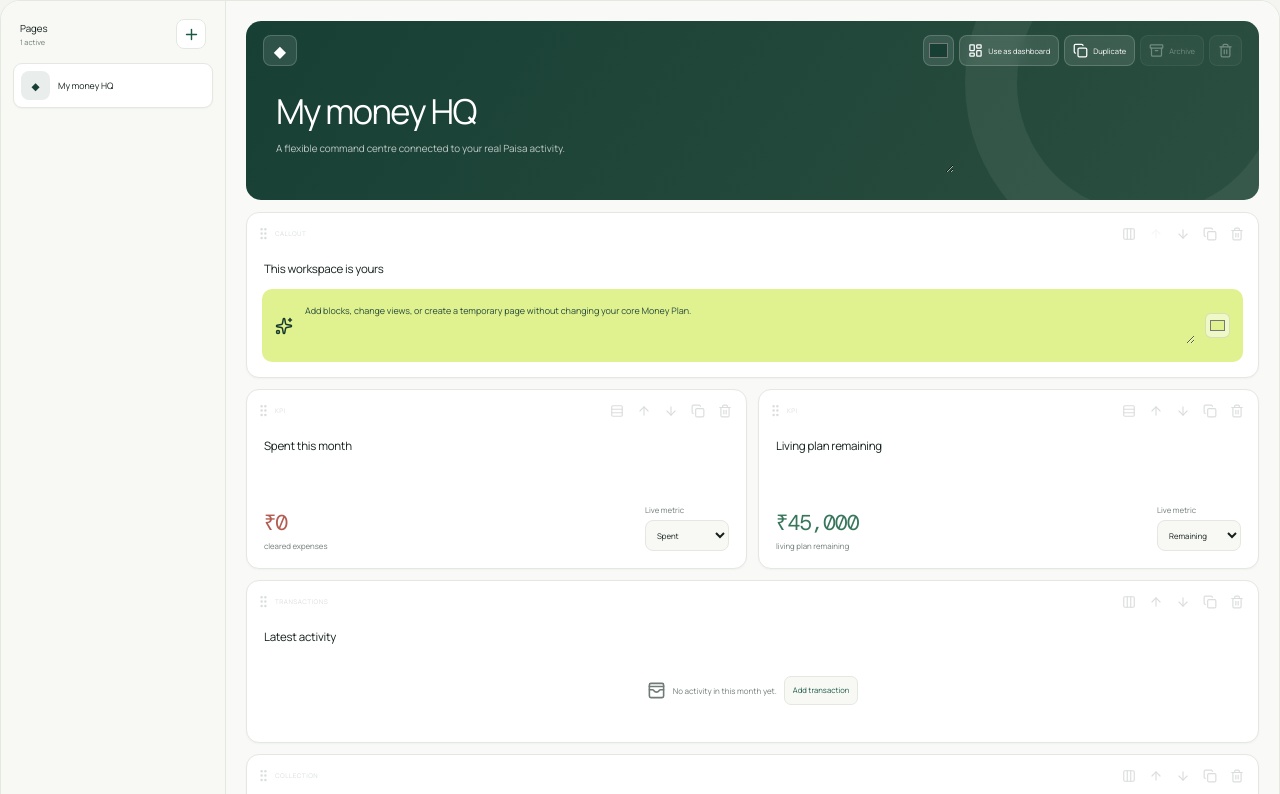
Workspace builder › creates a separate page from a finance template
Click the button named "New workspace page": (191, 34) [176,19,206,49]
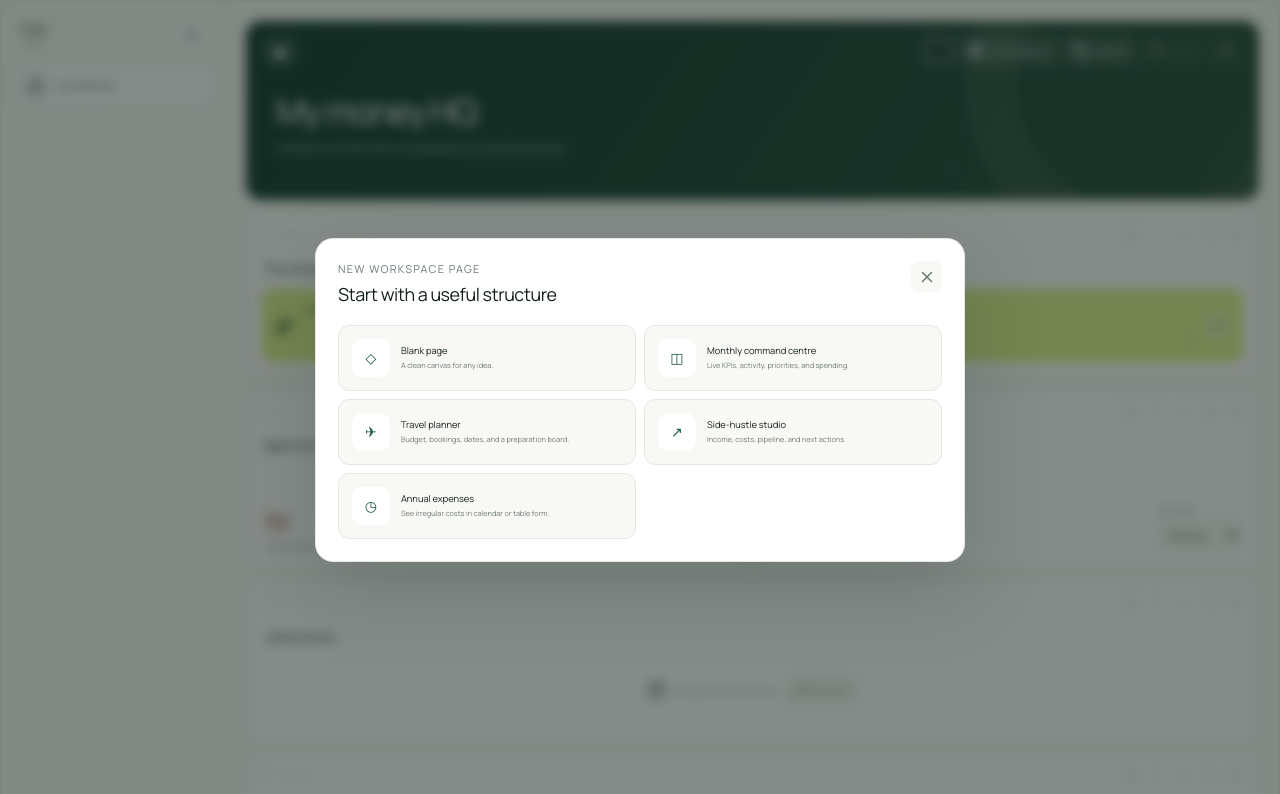
Click the button "Travel planner": (487, 432) [338,399,636,465]
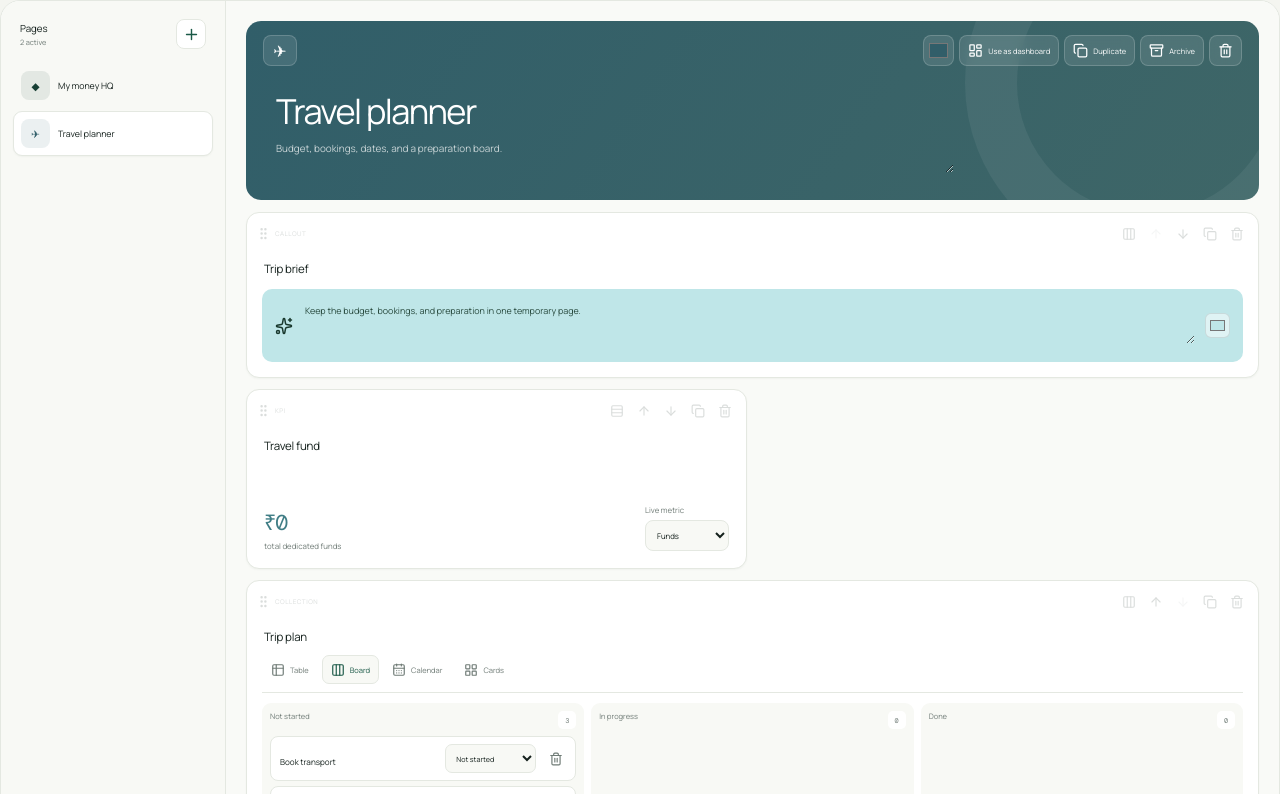
Result: the 2nd field named "Page title" holds "Travel planner" at [274,90,1074,132]
Result: the 5th field named "collection block title" holds "Trip plan" at [262,619,1243,653]
